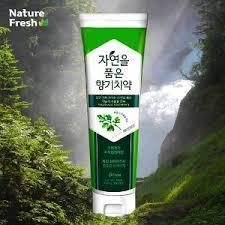toothpaste: (79, 11, 164, 218)
